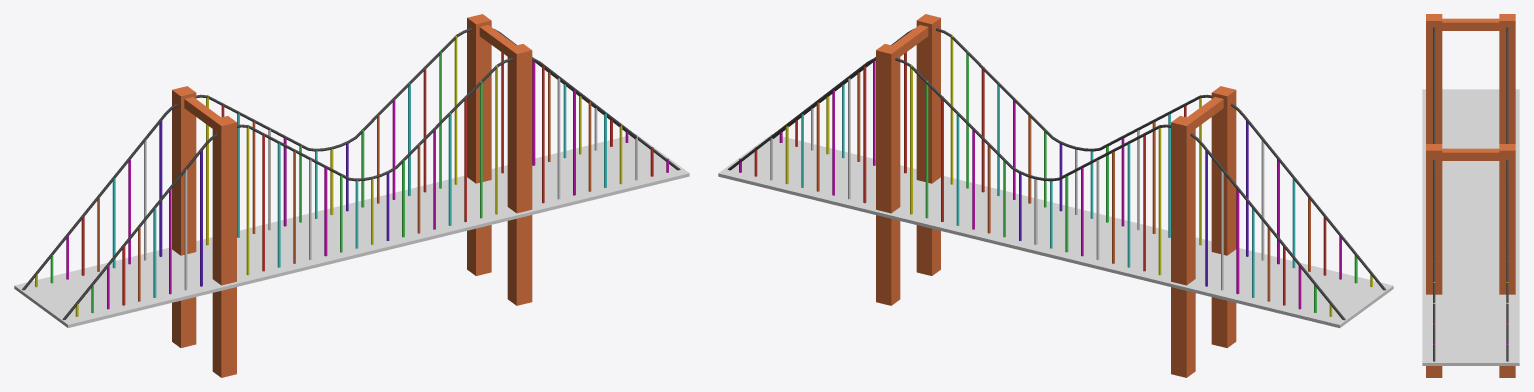
The model's file is suspension_bridge.fbx.
The picture shows the model from 3 angles, left to right: view 1: azimuth 30°, elevation 25°; view 2: azimuth 150°, elevation 25°; view 3: azimuth 270°, elevation 25°; orthographic projection. The views are drawn at different scales.
Parts seen in each view (by area): view 1: bridge, beams, Cylinder, cables; view 2: bridge, beams, Cylinder, cables; view 3: bridge, beams, cables.
Part boxes in pixels (<box>): bridge: <box>14,134,689,327</box>; beams: <box>172,14,532,377</box>; Cylinder: <box>35,35,668,316</box>; cables: <box>22,28,680,320</box>; bridge: <box>718,134,1393,328</box>; beams: <box>876,14,1236,377</box>; Cylinder: <box>739,35,1372,316</box>; cables: <box>727,28,1386,320</box>; bridge: <box>1422,89,1519,365</box>; beams: <box>1426,14,1515,377</box>; cables: <box>1433,27,1508,361</box>.
Size of the model in its own units: 4000 by 1548 by 600.
